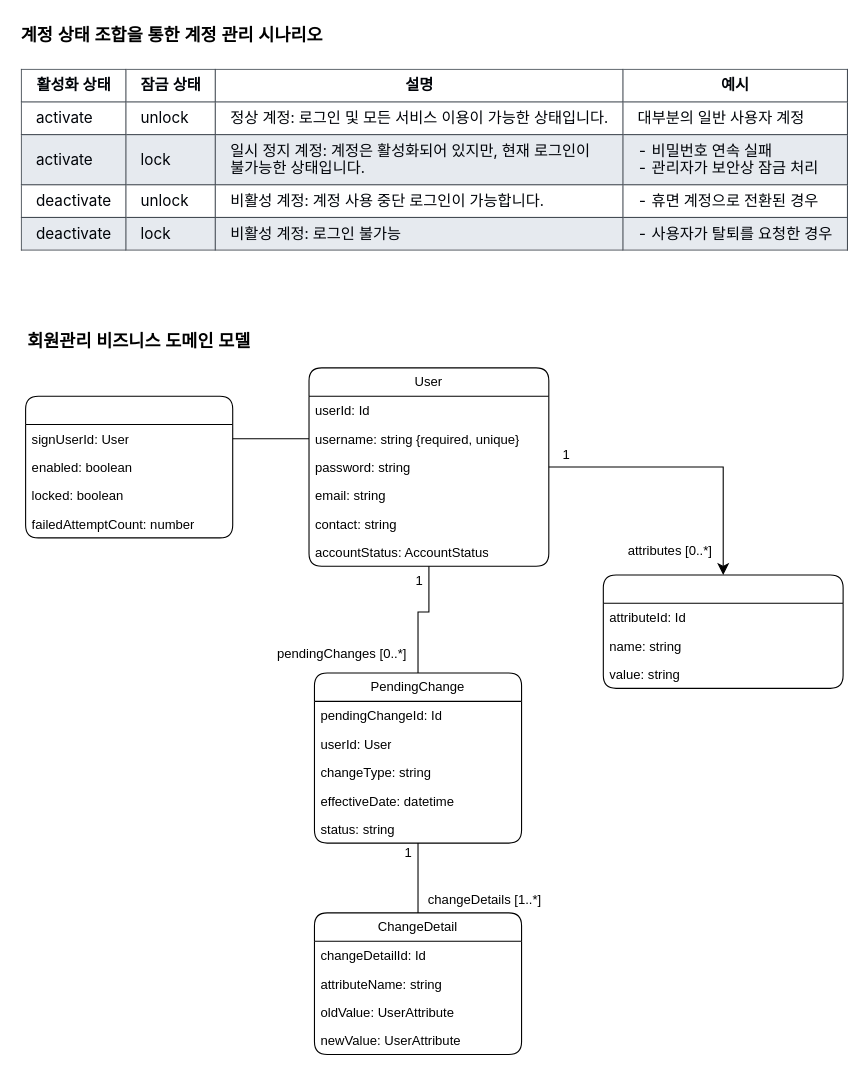
Some shapes in this 867 by 1076 pixel diagram are drawn without their labels. Here are the shapes that lost their labels. From the top down, the box of each, then its label:
(25, 395, 233, 538): AccountStatus
(602, 574, 843, 688): UserAttribute
